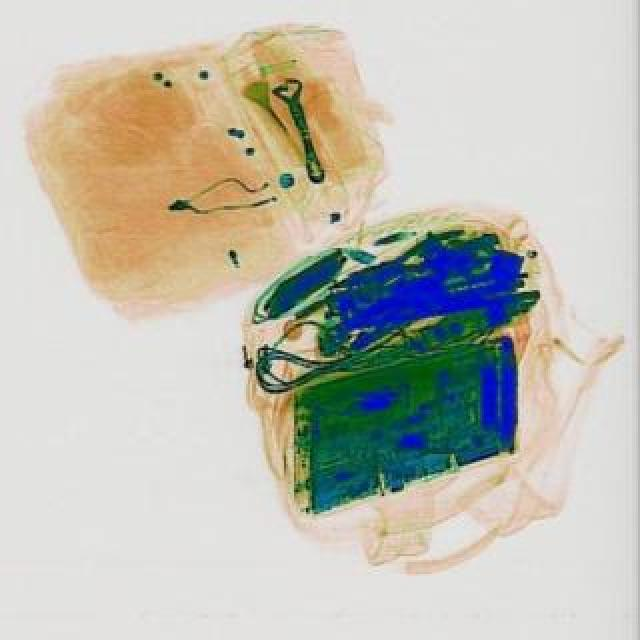wrench: (324, 226, 480, 308)
